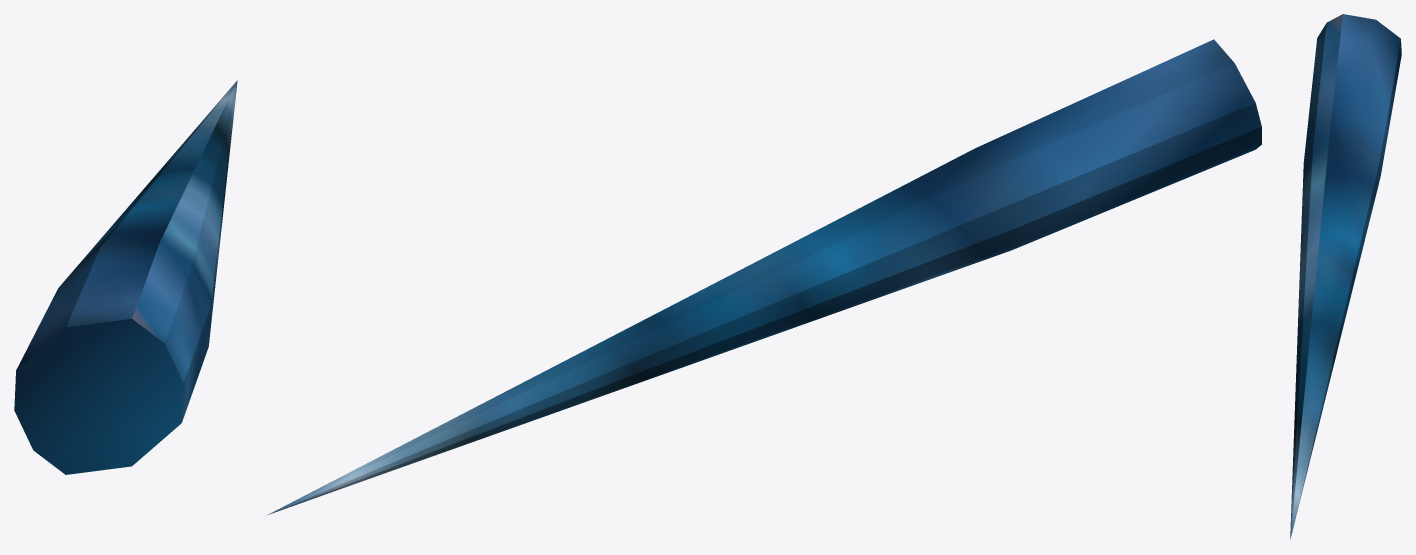
File: ICICLERIGHT..fbx
3 views of the same model, side by side, from view 1: azimuth 90°, elevation 25°; view 2: azimuth 210°, elevation 25°; view 3: azimuth 270°, elevation 25° (orthographic). The views are drawn at different scales.
Parts seen in each view (by area): view 1: ICICLERIGHT_; view 2: ICICLERIGHT_; view 3: ICICLERIGHT_.
Boxes of the visible parts, <box> form: ICICLERIGHT_: <box>14,80,237,474</box>; ICICLERIGHT_: <box>267,39,1261,515</box>; ICICLERIGHT_: <box>1290,14,1401,539</box>.
Bounding box in the file's own units: 29.8 × 8.57 × 4.26.
